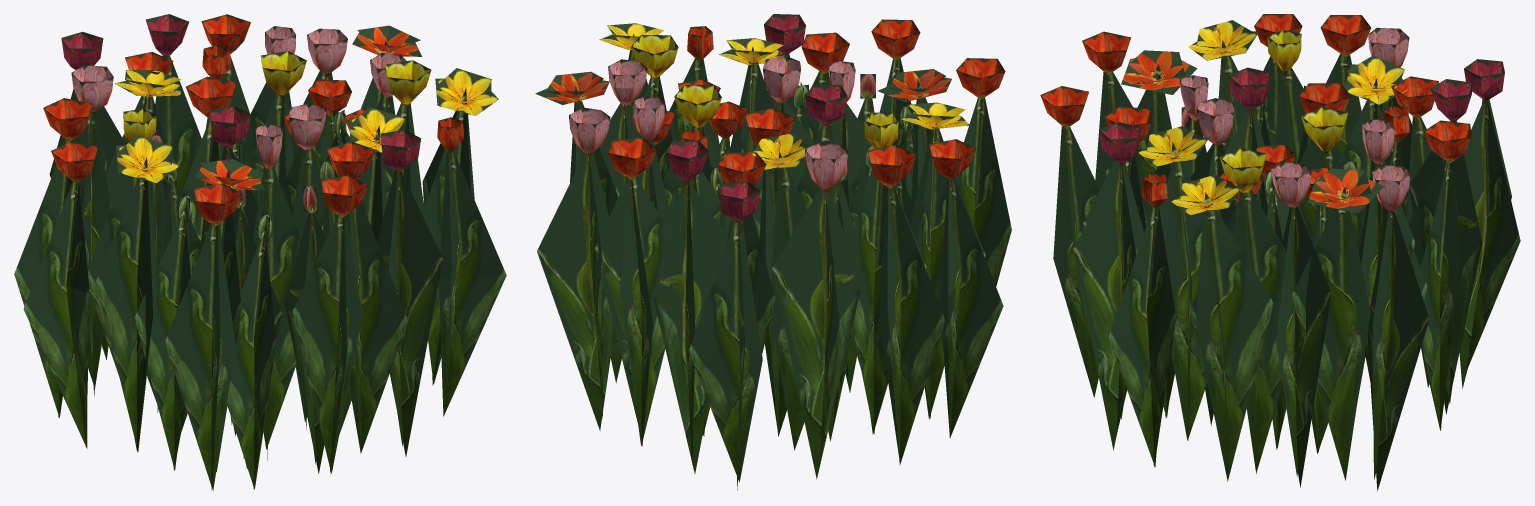
The model's file is Flower04.FBX.
3 renders of one model, left to right at view 1: azimuth 30°, elevation 25°; view 2: azimuth 150°, elevation 25°; view 3: azimuth 270°, elevation 25°, orthographic.
Visible parts, largest first — view 1: LV_Spechia_Foliage_SF02_PM_IJH; view 2: LV_Spechia_Foliage_SF02_PM_IJH; view 3: LV_Spechia_Foliage_SF02_PM_IJH.
Boxes of the visible parts, box(x1,y1,x2,y2) form: LV_Spechia_Foliage_SF02_PM_IJH: box(14, 14, 506, 491); LV_Spechia_Foliage_SF02_PM_IJH: box(535, 14, 1011, 490); LV_Spechia_Foliage_SF02_PM_IJH: box(1040, 14, 1520, 491).
Size of the model in its own units: 21.54 by 16.24 by 20.64.
